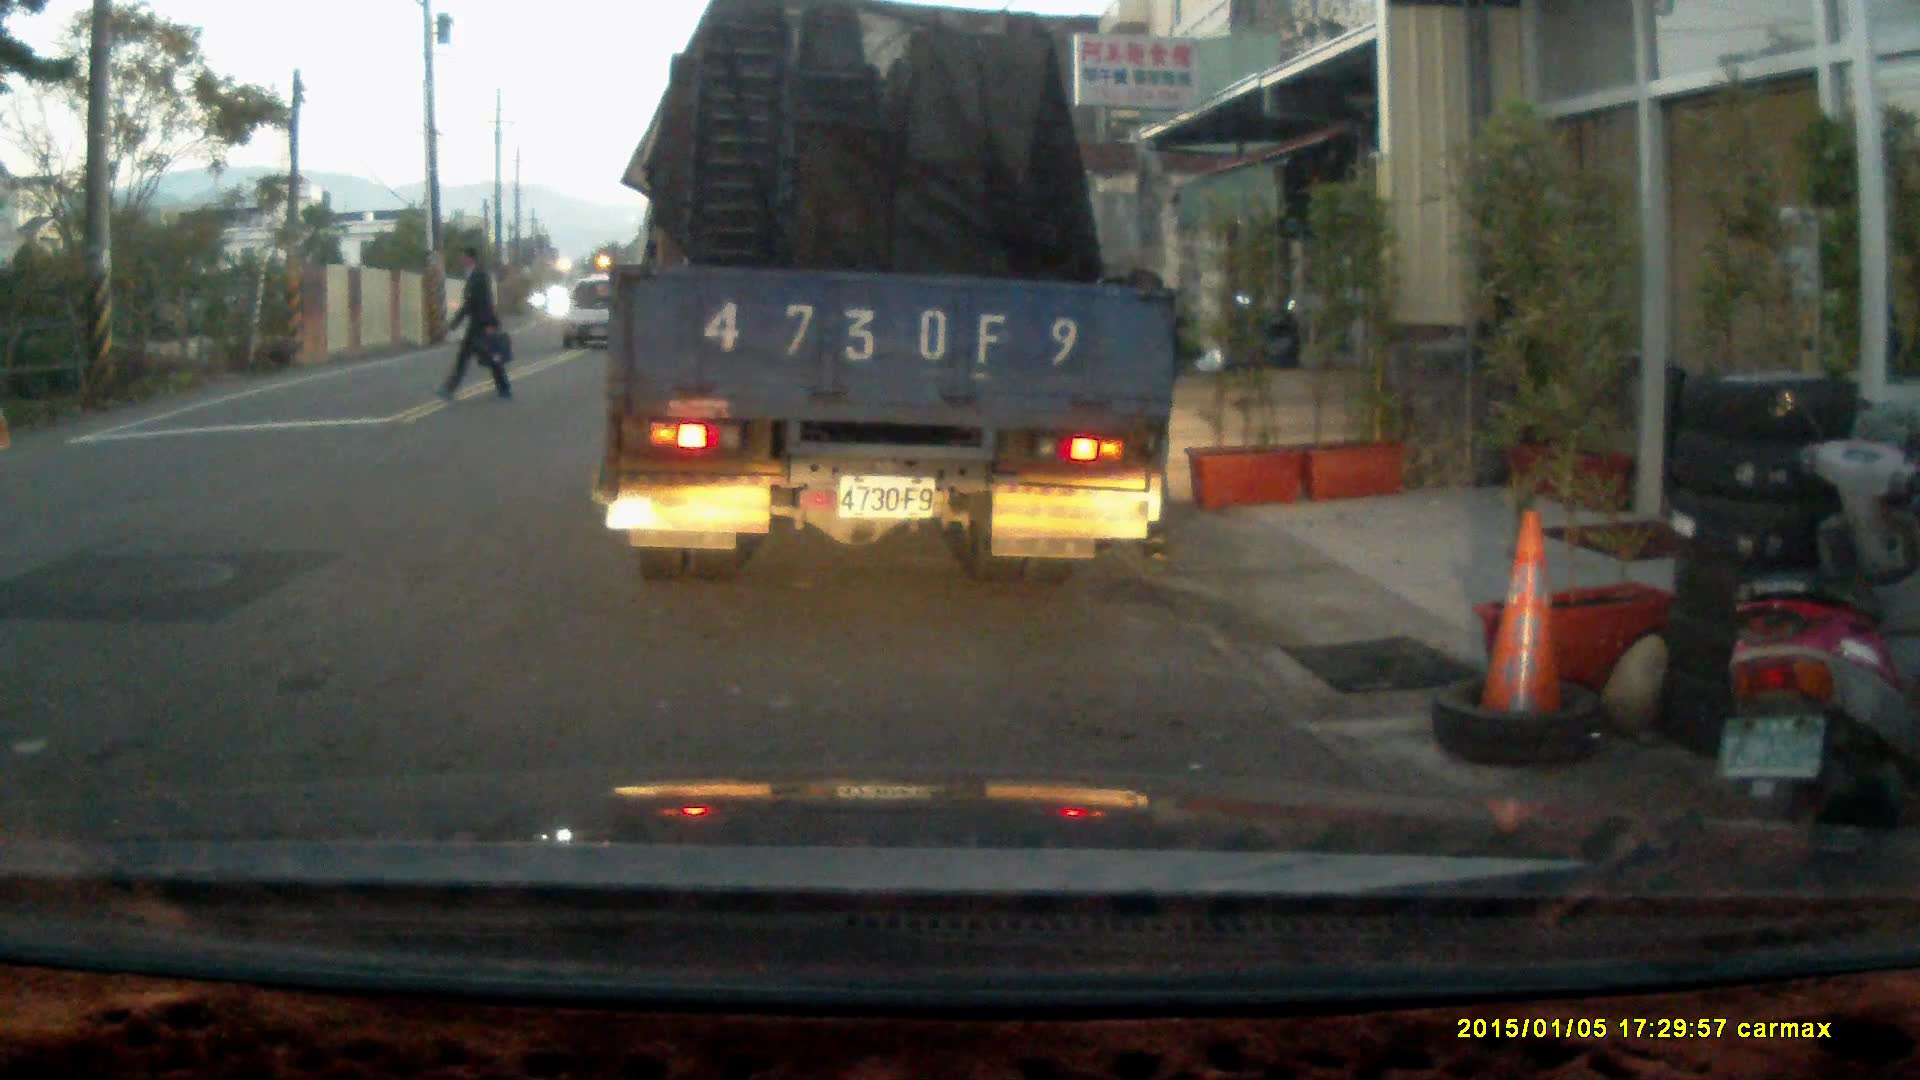pedestrian: (434, 242, 516, 405)
vehicle: (604, 23, 1188, 572), (562, 274, 629, 354)
